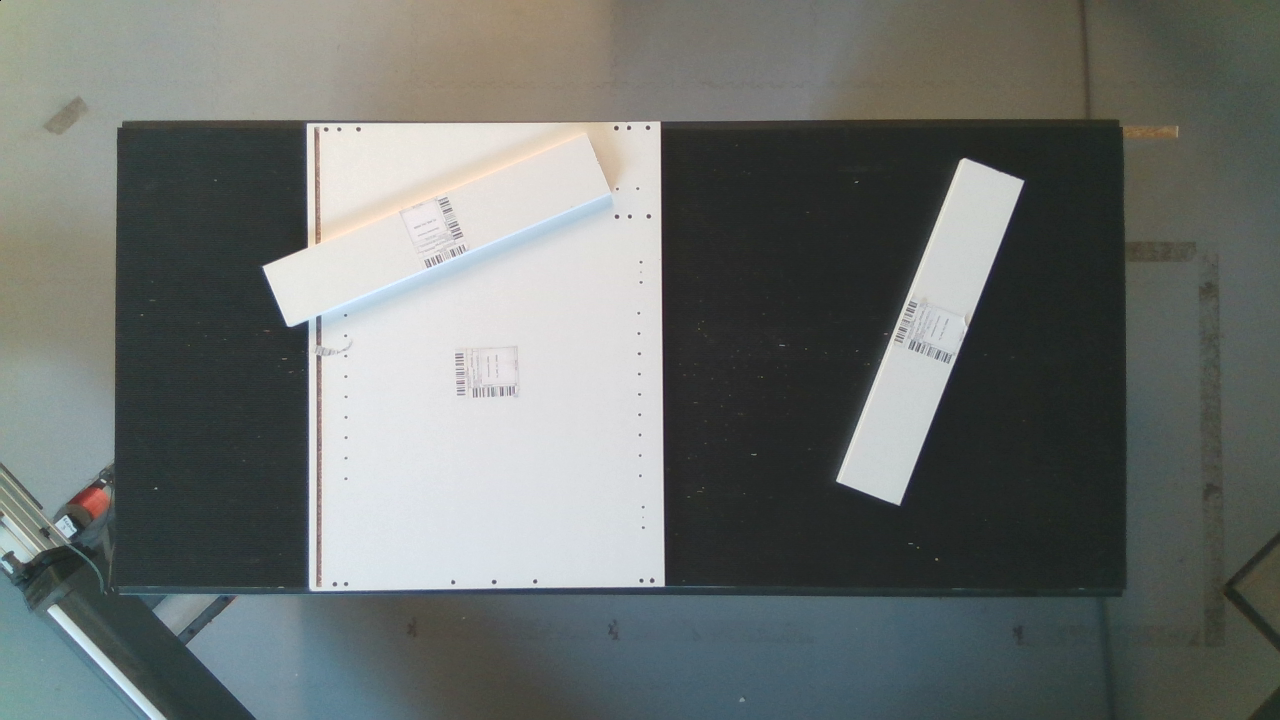barcode: (882, 287, 975, 372), (392, 187, 473, 274), (445, 340, 533, 405)
part1: (825, 129, 1025, 512)
part2: (282, 122, 692, 597)
